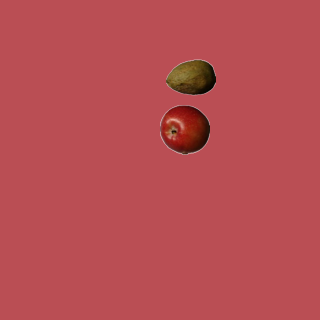Apple Braeburn: (159, 104, 209, 154)
Papaya: (165, 52, 215, 102)
